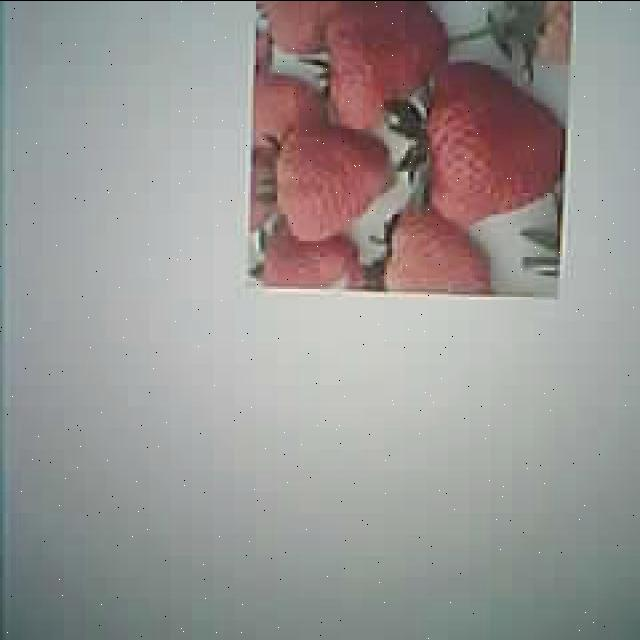strawberry: (420, 62, 560, 220), (323, 2, 449, 130), (269, 130, 392, 237), (379, 205, 492, 298)
